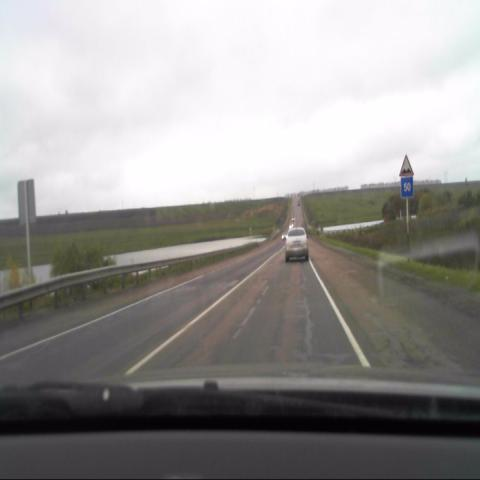1_16: (399, 153, 414, 175)
6_2: (401, 176, 413, 198)
